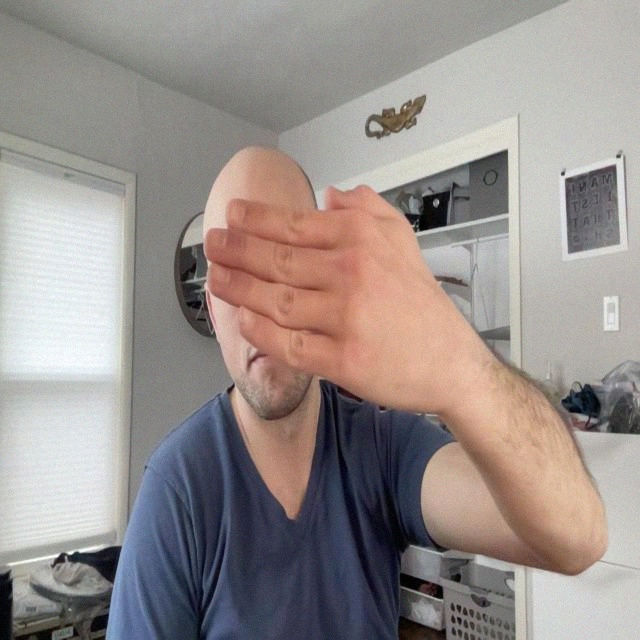Paper: (202, 179, 463, 416)
